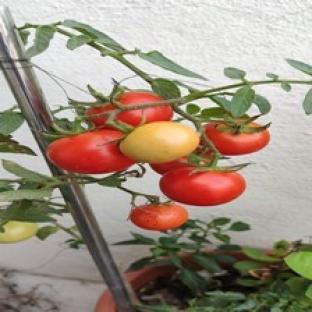Tomato: (48, 130, 135, 174), (159, 168, 246, 206), (120, 122, 199, 162), (205, 123, 270, 155), (130, 204, 188, 231), (116, 105, 172, 126), (0, 222, 37, 243), (151, 158, 188, 175)
